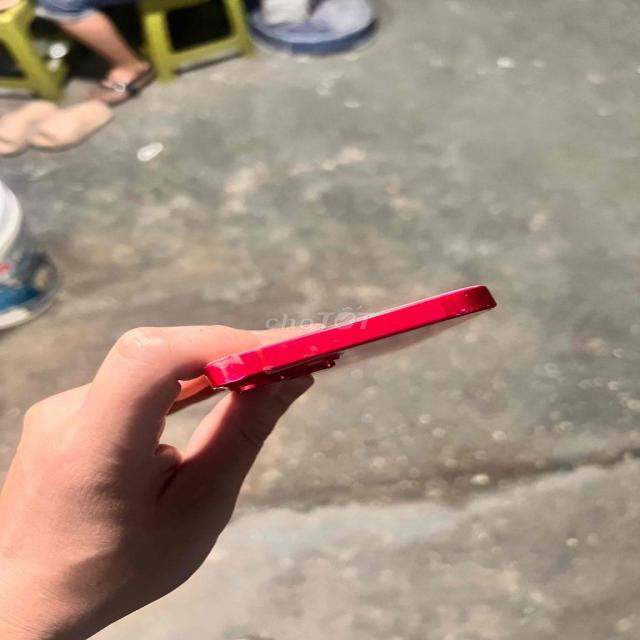gen_14: (203, 279, 513, 399)
scratch: (192, 350, 256, 374)
